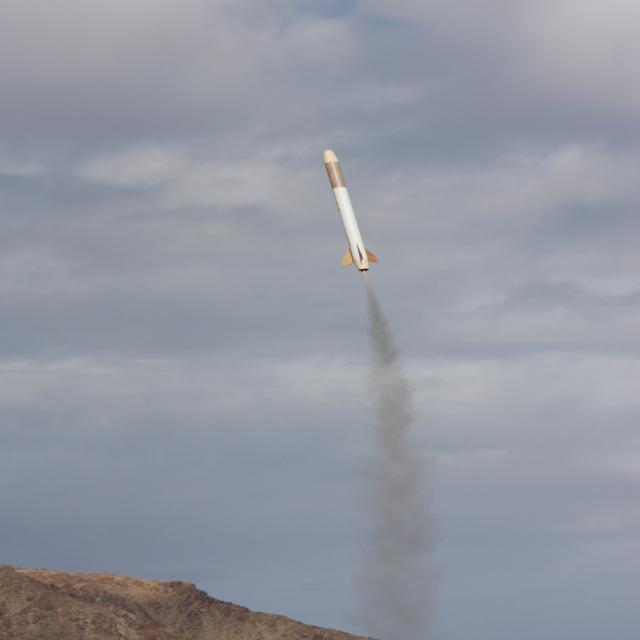Rocket: (323, 149, 379, 273)
